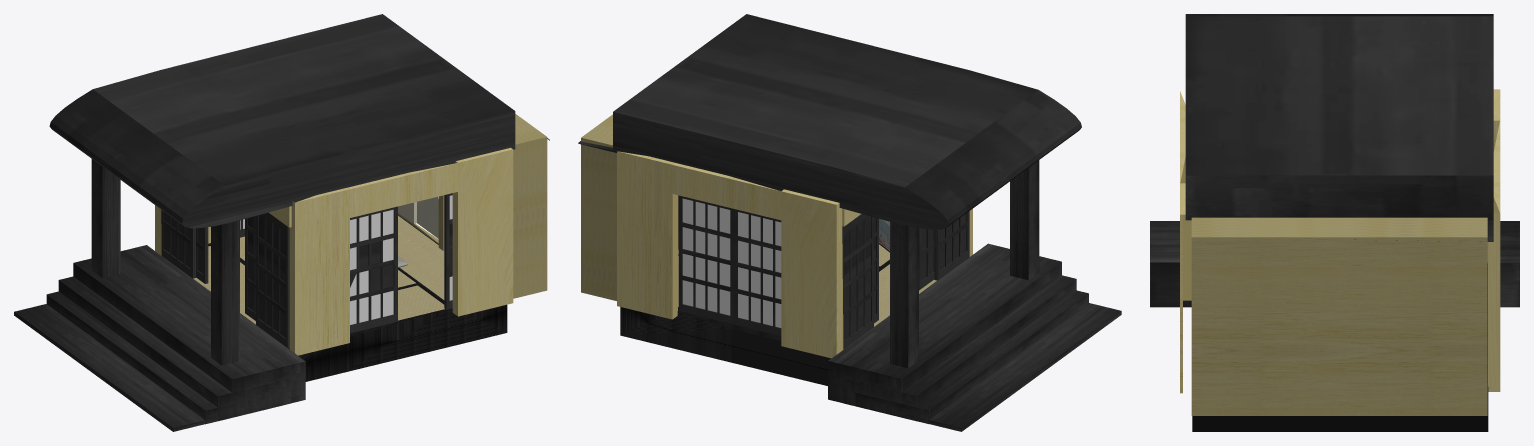
Rendered from anime-tatami-room-light.glb.
3 renders of one model, left to right at view 1: azimuth 30°, elevation 25°; view 2: azimuth 150°, elevation 25°; view 3: azimuth 270°, elevation 25°, orthographic. The views are drawn at different scales.
Visible parts, largest first — view 1: Object_26, Object_39, Object_31, Object_33, Object_57, Object_61, Object_35; view 2: Object_26, Object_39, Object_61, Object_31, Object_33, Object_57; view 3: Object_26, Object_33, Object_39, Object_31.
Part boxes in pixels (x1,y1,x2,y2): Object_26: [14, 14, 549, 431]; Object_39: [155, 147, 513, 355]; Object_31: [194, 215, 507, 381]; Object_33: [398, 114, 547, 298]; Object_57: [193, 215, 444, 324]; Object_61: [240, 195, 452, 324]; Object_35: [398, 196, 438, 238]; Object_26: [578, 14, 1121, 431]; Object_39: [617, 151, 972, 358]; Object_61: [682, 198, 781, 327]; Object_31: [620, 255, 930, 385]; Object_33: [581, 114, 678, 300]; Object_57: [678, 242, 936, 326]; Object_26: [1150, 14, 1519, 307]; Object_33: [1191, 217, 1487, 415]; Object_39: [1180, 89, 1500, 393]; Object_31: [1192, 264, 1488, 431].
Bounding box in the file's own units: 21.34 × 11.6 × 15.
21 materials, 18 textured.
